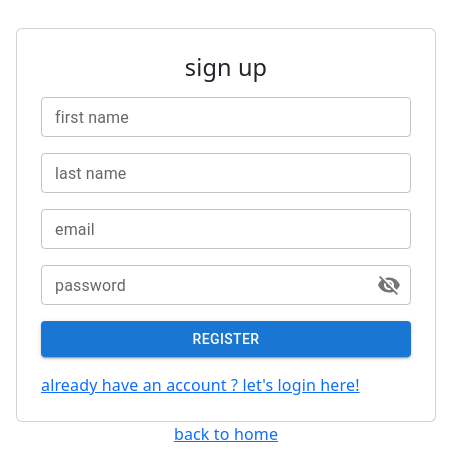
signup page › shows invalid email error
Type "john" into the field labelled "first name" at (226, 117), box [41,97,411,137]
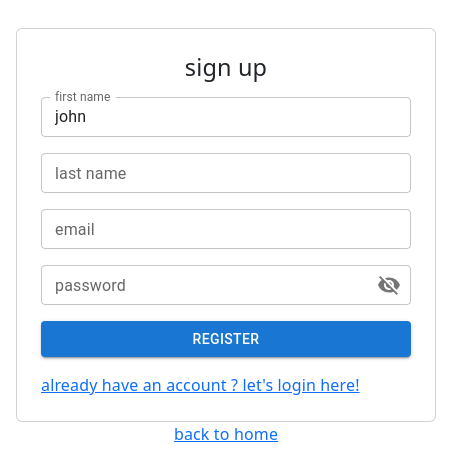
Type "doe" into the field labelled "last name" at (226, 173), box [41,153,411,193]
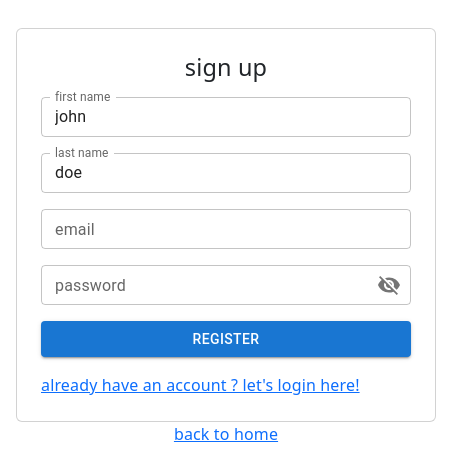
Type "wrong-email" into the field labelled "email" at (226, 229), box [41,209,411,249]
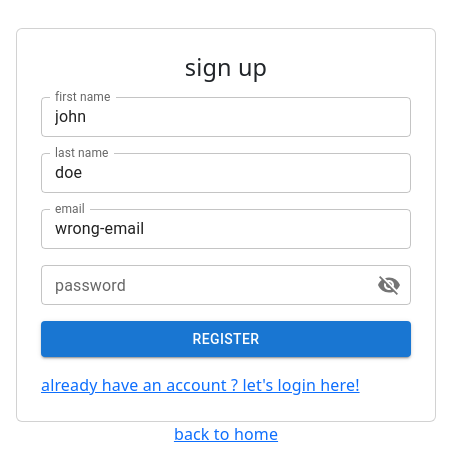
Type "1234567890" into the password field labelled "password" at (201, 285), box [41,265,361,305]
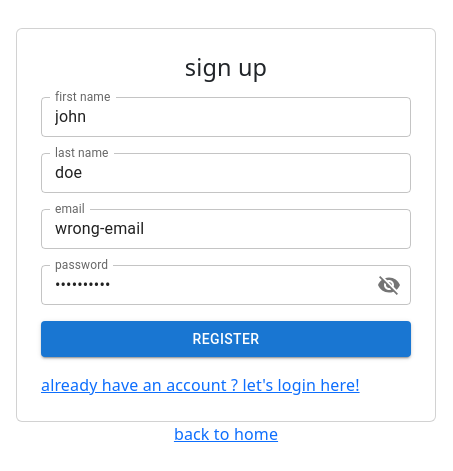
Click the button "register" at (226, 339), box [41,321,411,357]
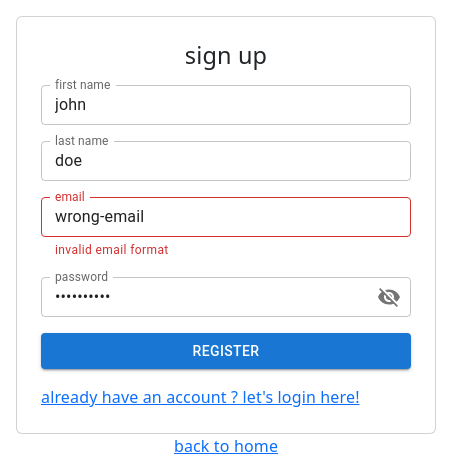
Check: the text "invalid email format" is shown, box [55,243,169,257]
